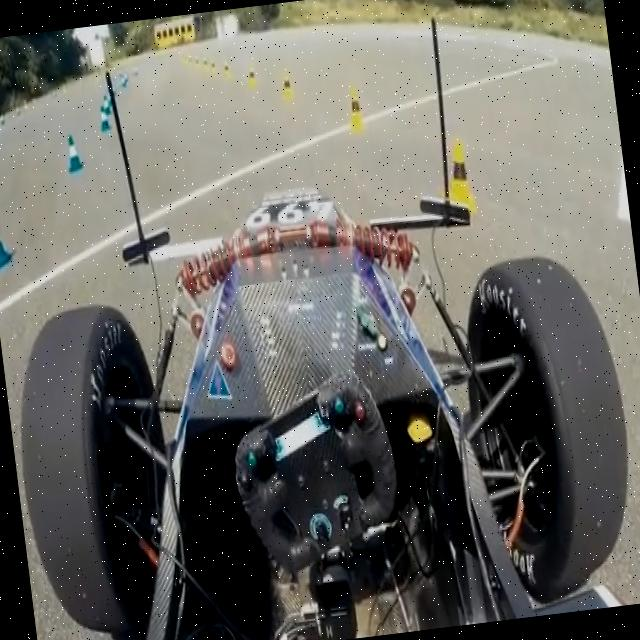blue_cone: (60, 132, 86, 176), (0, 202, 16, 271), (94, 104, 112, 135), (102, 94, 114, 120)
yellow_cone: (442, 140, 476, 217), (345, 86, 367, 136), (278, 70, 294, 100)
